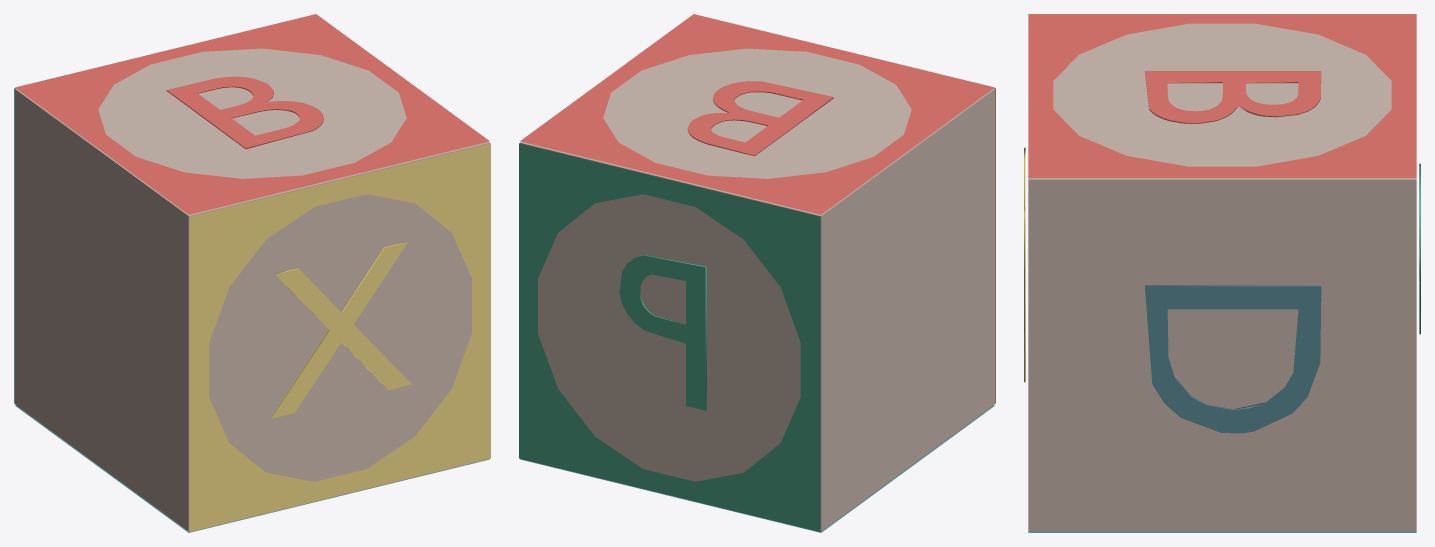
The picture shows the model from 3 angles, left to right: view 1: azimuth 30°, elevation 25°; view 2: azimuth 150°, elevation 25°; view 3: azimuth 270°, elevation 25°; orthographic projection. The views are drawn at different scales.
Parts seen in each view (by area): view 1: cube; view 2: cube; view 3: cube.
Part boxes in pixels (x1,y1,x2,y2): cube: (14, 14, 490, 532); cube: (519, 14, 995, 532); cube: (1024, 14, 1420, 532).
Size of the model in its own units: 0.0453 by 0.046 by 0.046.
